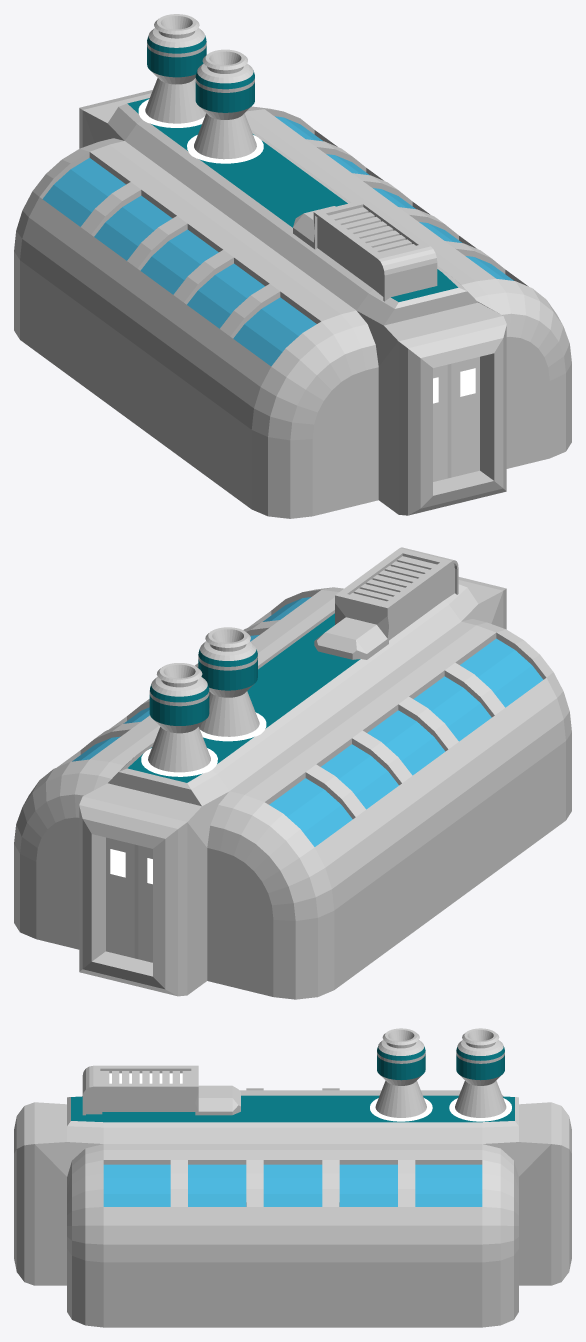
The model's file is Kitchen Module.fbx.
3 views of the same model, one above another, from view 1: azimuth 30°, elevation 25°; view 2: azimuth 150°, elevation 25°; view 3: azimuth 270°, elevation 25° (orthographic). The views are drawn at different scales.
Visible parts, largest first — view 1: KITCHEN; view 2: KITCHEN; view 3: KITCHEN.
Boxes of the visible parts, bbox=[...] form: KITCHEN: bbox=[14, 14, 571, 518]; KITCHEN: bbox=[14, 547, 571, 999]; KITCHEN: bbox=[14, 1028, 571, 1327].
Bounding box in the file's own units: 546 × 465 × 1028.
